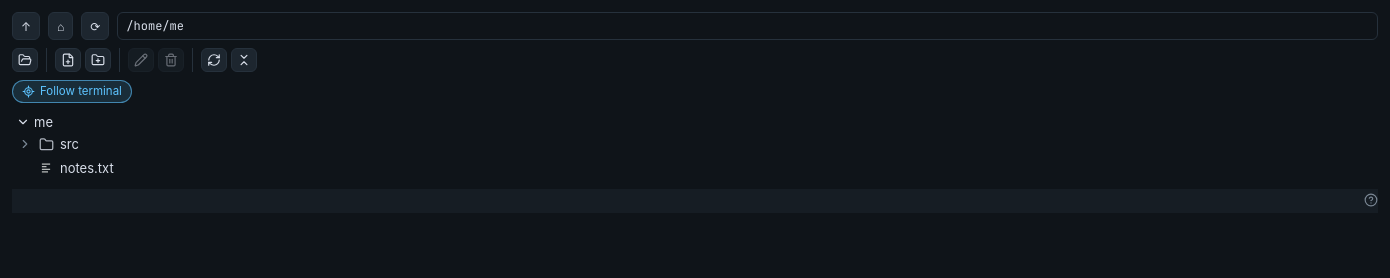
Scenario: LocalPanel tree › expands and collapses a folder in place with a chevron, indenting its children
The width and height of the screenshot is (1390, 278).
Click the text "src". click: x=70, y=144
box: [60, 136, 79, 152]
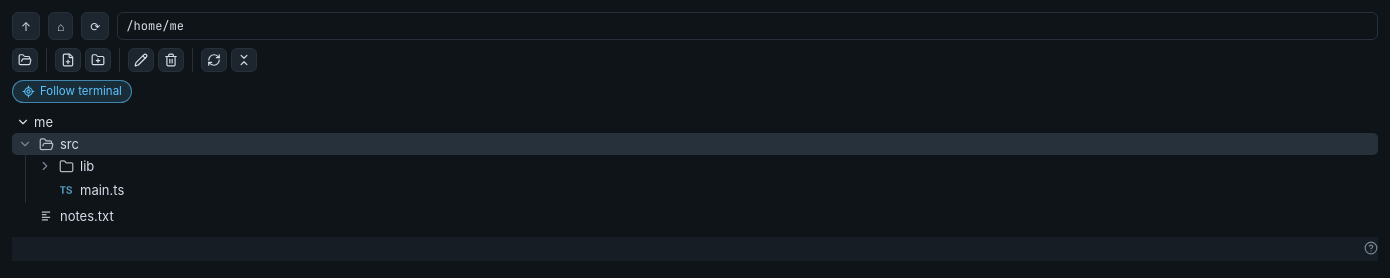
Expected: the field named "Local path" holds "/home/me", [117, 12, 1378, 40]
Expected: the text "main.ts" is shown, [80, 182, 124, 198]
Expected: the list item "src" is expanded, [12, 133, 1378, 155]
Click the text "src". click: x=70, y=144
box: [60, 136, 79, 152]
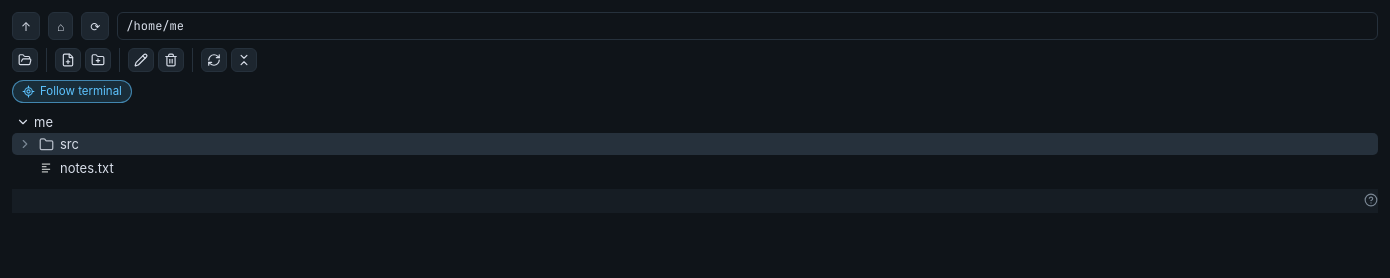
Expected: the text "main.ts" is gone
Expected: the list item "src" is collapsed, [12, 133, 1378, 155]
